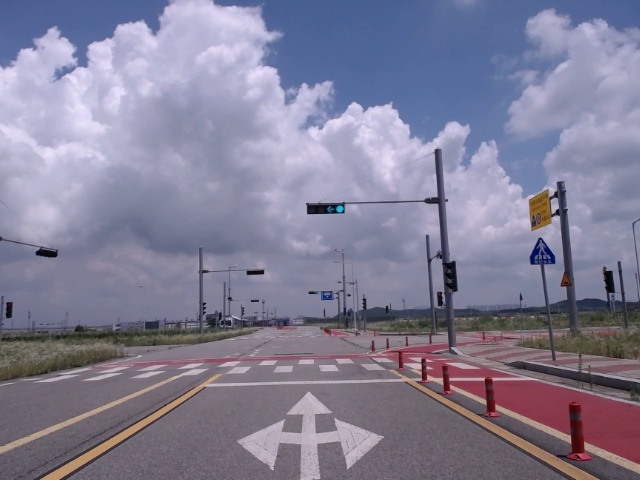all_green_4: (309, 202, 344, 214)
